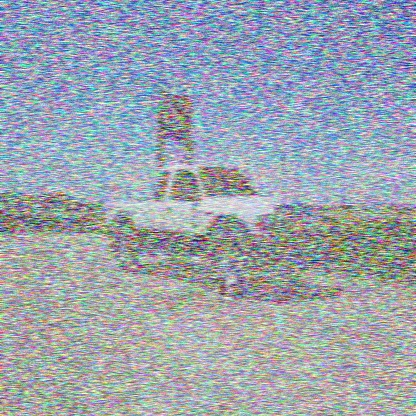Vehicle: (102, 164, 321, 298)
